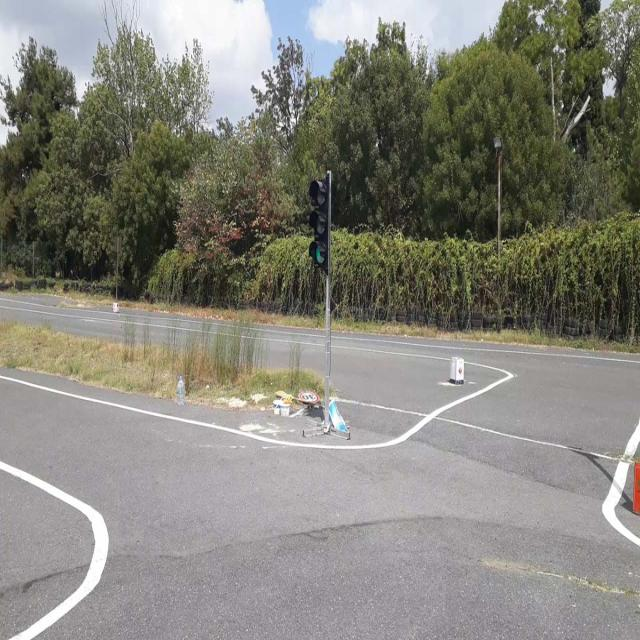yesil: (310, 180, 330, 268)
